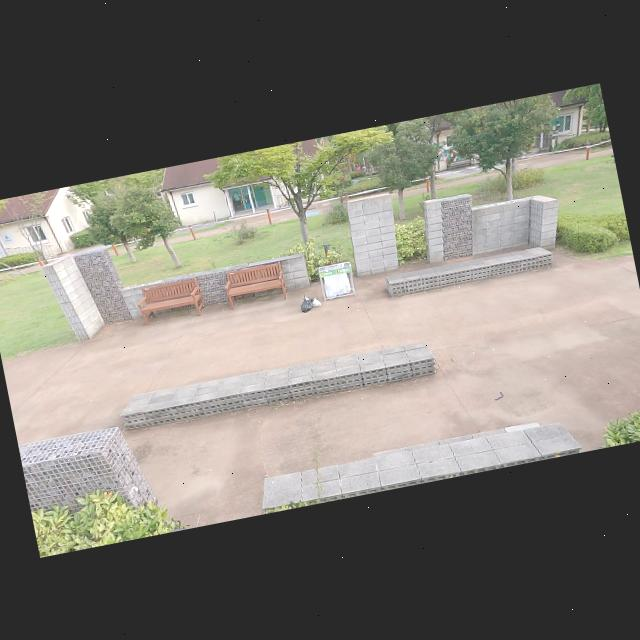trash: (299, 293, 314, 312), (310, 296, 321, 308), (299, 294, 310, 302)
